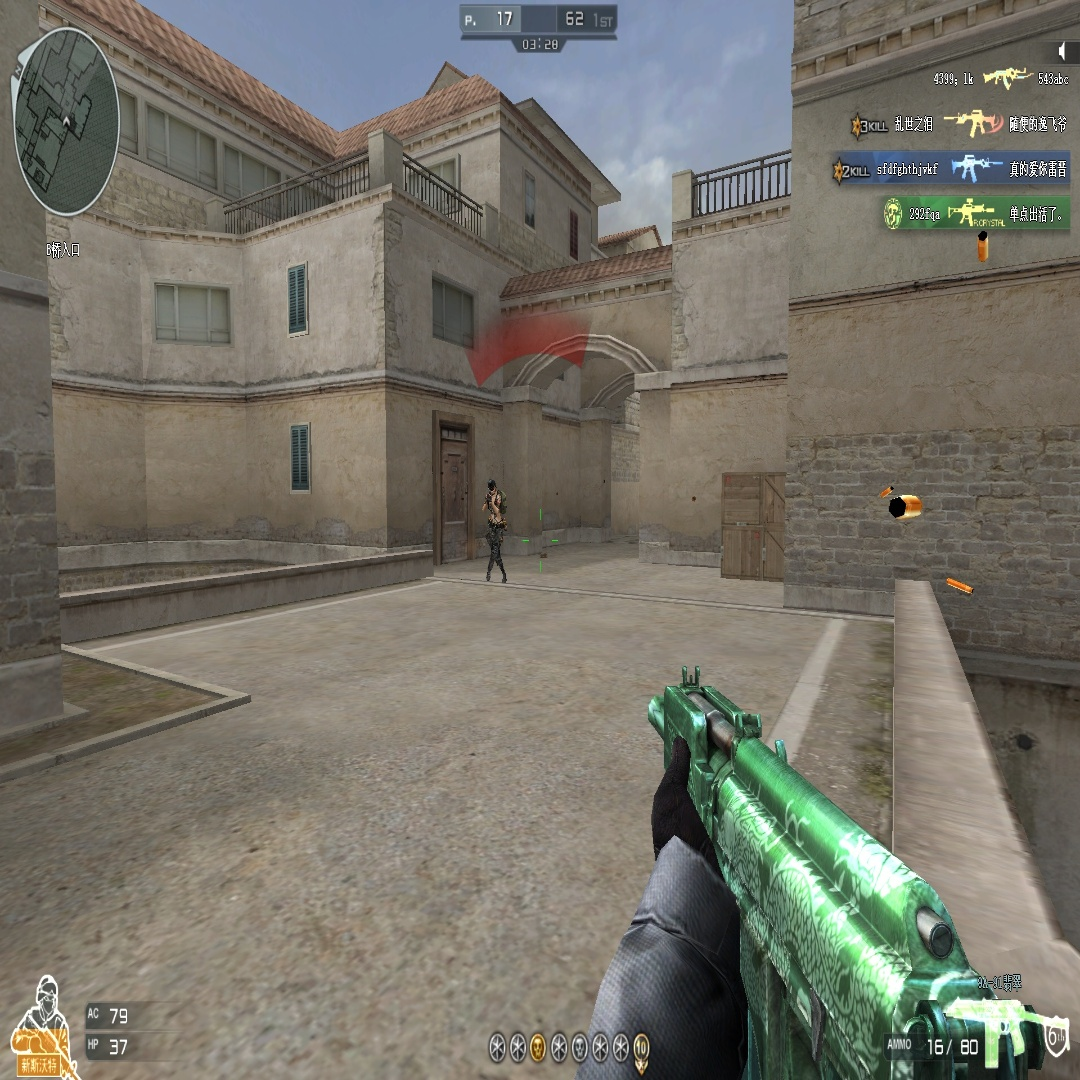p: (482, 478, 509, 581)
